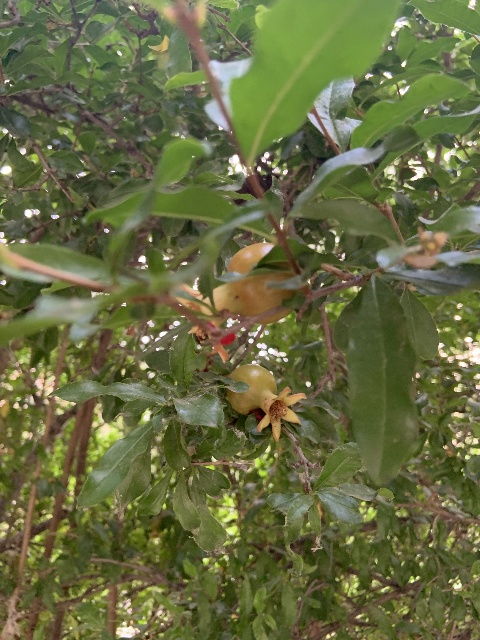early-fruit: (178, 242, 297, 363)
mid-growth: (226, 363, 305, 441)
